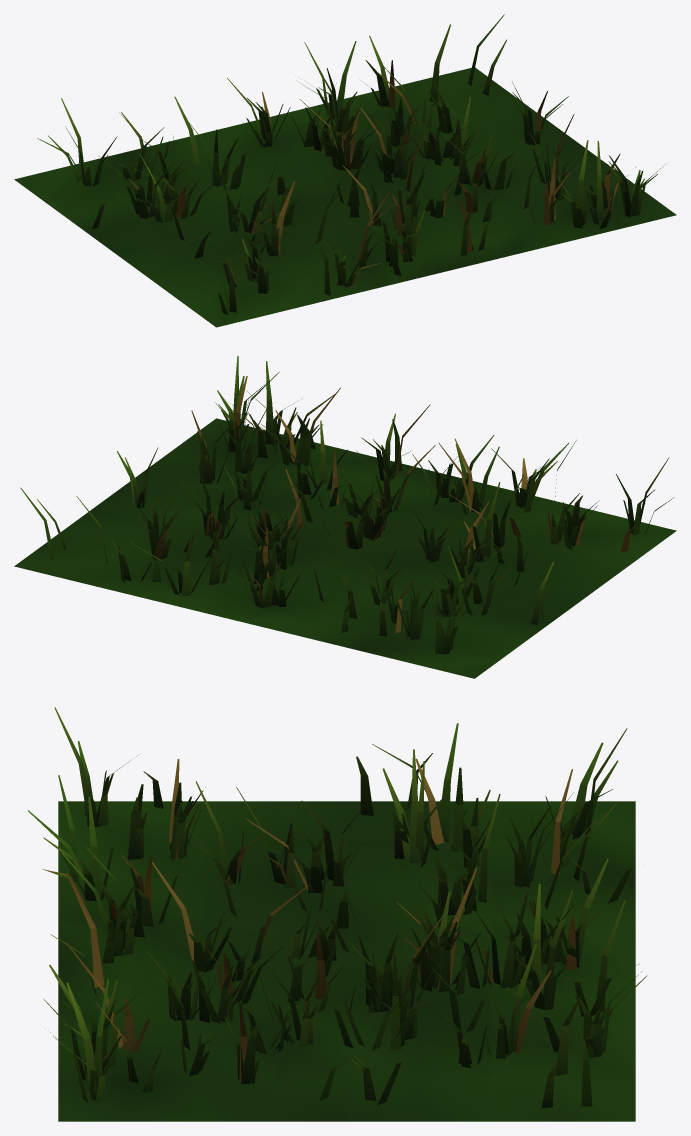
The model's file is fm_turf.glb.
The picture shows the model from 3 angles, top to bottom: view 1: azimuth 30°, elevation 25°; view 2: azimuth 150°, elevation 25°; view 3: azimuth 270°, elevation 25°; orthographic projection. The views are drawn at different scales.
Parts seen in each view (by area): view 1: fm_turf; view 2: fm_turf; view 3: fm_turf.
Boxes of the visible parts, <box> form: fm_turf: <box>14,14,676,327</box>; fm_turf: <box>14,356,676,678</box>; fm_turf: <box>28,707,647,1121</box>.
Bounding box in the file's own units: 2.39 × 0.36 × 2.01.
